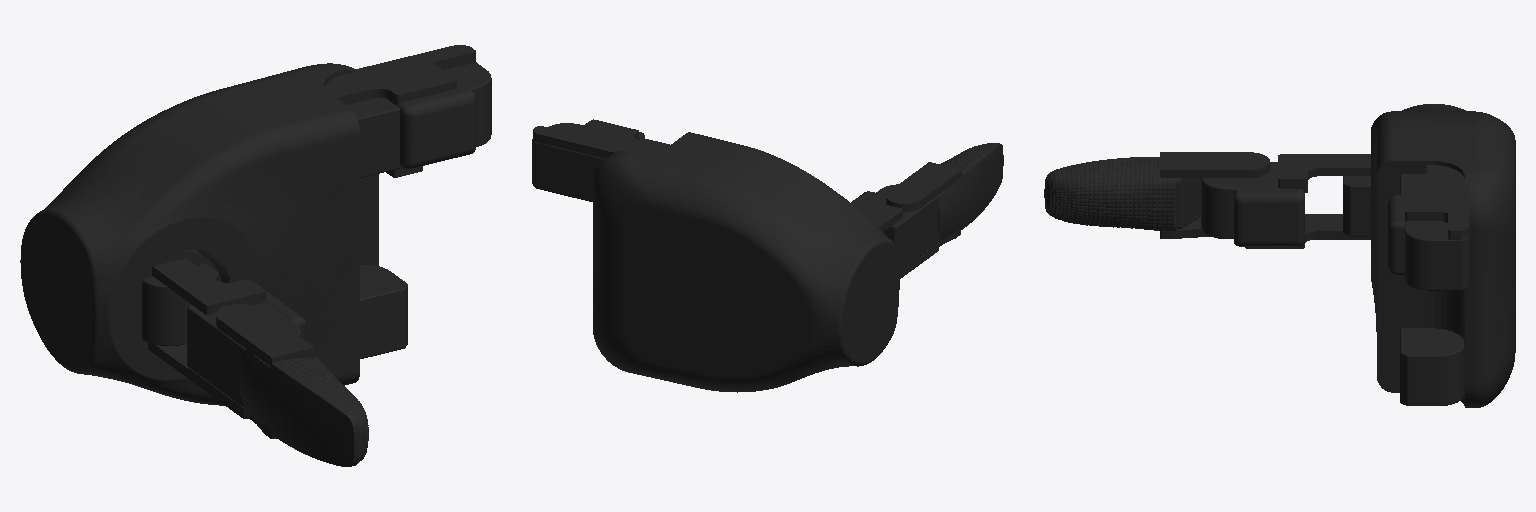
robot.urdf — dex3_1_l:
<robot name="dex3_1_l">
  <material name="dark">
    <color rgba="0.2 0.2 0.2 1"/>
  </material>

  <mujoco>
    <compiler meshdir="meshes" discardvisual="false"/>
  </mujoco>

  <!-- [CAUTION] uncomment when convert to mujoco -->
  <!-- <link name="world"></link>
  <joint name="floating_base_joint" type="floating">
    <parent link="world"/>
    <child link="left_hand_palm_link"/>
  </joint> -->

  <link name="left_hand_palm_link">
    <inertial>
      <origin xyz="0.06214634836 -0.00050869656 -0.00058171093" rpy="0 0 0"/>
      <mass value="0.37283854"/>
      <inertia ixx="0.00027535181027" ixy="-0.00001595519465" ixz="-0.00000242161890" iyy="0.00053951827219" iyz="-0.00000042279435" izz="0.00039623390907"/>
    </inertial>
    <visual>
      <origin xyz="0 0 0" rpy="0 0 0"/>
      <geometry>
        <mesh filename="meshes/left_hand_palm_link.STL"/>
      </geometry>
      <material name="dark"/>
    </visual>
    <collision>
      <origin xyz="0 0 0" rpy="0 0 0"/>
      <geometry>
        <mesh filename="meshes/left_hand_palm_link.STL"/>
      </geometry>
    </collision>
  </link>
  <joint name="left_hand_thumb_0_joint" type="revolute">
    <origin xyz="0.0255 0 0" rpy="0 0 0"/>
    <axis xyz="0 1 0"/>
    <parent link="left_hand_palm_link"/>
    <child link="left_hand_thumb_0_link"/>
    <limit effort="2.45" velocity="3.14" lower="-1.04719755" upper="1.04719755"/>
  </joint>
  <link name="left_hand_thumb_0_link">
    <inertial>
      <origin xyz="-0.00088424580 -0.00863407079 0.00094429336" rpy="0 0 0"/>
      <mass value="0.08623657"/>
      <inertia ixx="0.00001602919238" ixy="0.00000010683177" ixz="0.00000016728875" iyy="0.00001451795012" iyz="-0.00000051094752" izz="0.00001637877663"/>
    </inertial>
    <visual>
      <origin xyz="0 0 0" rpy="0 0 0"/>
      <geometry>
        <mesh filename="meshes/left_hand_thumb_0_link.STL"/>
      </geometry>
      <material name="dark"/>
    </visual>
    <collision>
      <origin xyz="0 0 0" rpy="0 0 0"/>
      <geometry>
        <mesh filename="meshes/left_hand_thumb_0_link.STL"/>
      </geometry>
    </collision>
  </link>
  <joint name="left_hand_thumb_1_joint" type="revolute">
    <origin xyz="-0.0025 -0.0193 0" rpy="0 0 0"/>
    <axis xyz="0 0 1"/>
    <parent link="left_hand_thumb_0_link"/>
    <child link="left_hand_thumb_1_link"/>
    <limit effort="1.4" velocity="12" lower="-0.61086523" upper="1.04719755"/>
  </joint>
  <link name="left_hand_thumb_1_link">
    <inertial>
      <origin xyz="-0.00082788768 -0.03547435774 -0.00038089960" rpy="0 0 0"/>
      <mass value="0.05885070"/>
      <inertia ixx="0.00001274699945" ixy="-0.00000050770784" ixz="0.00000016088850" iyy="0.00000601573947" iyz="-0.00000027839003" izz="0.00001234543582"/>
    </inertial>
    <visual>
      <origin xyz="0 0 0" rpy="0 0 0"/>
      <geometry>
        <mesh filename="meshes/left_hand_thumb_1_link.STL"/>
      </geometry>
      <material name="dark"/>
    </visual>
    <collision>
      <origin xyz="-0.001 -0.032 0" rpy="0 0 0"/>
      <geometry>
        <box size="0.02 0.03 0.02"/>
      </geometry>
    </collision>
  </link>
  <joint name="left_hand_thumb_2_joint" type="revolute">
    <origin xyz="0 -0.0458 0" rpy="0 0 0"/>
    <axis xyz="0 0 1"/>
    <parent link="left_hand_thumb_1_link"/>
    <child link="left_hand_thumb_2_link"/>
    <limit effort="1.4" velocity="12" lower="0" upper="1.74532925"/>
  </joint>
  <link name="left_hand_thumb_2_link">
    <inertial>
      <origin xyz="-0.00171735242 -0.02628192939 0.00010778879" rpy="0 0 0"/>
      <mass value="0.02030626"/>
      <inertia ixx="0.00000461267817" ixy="-0.00000003422130" ixz="-0.00000000823881" iyy="0.00000153561368" iyz="-0.00000002549885" izz="0.00000386625776"/>
    </inertial>
    <visual>
      <origin xyz="0 0 0" rpy="0 0 0"/>
      <geometry>
        <mesh filename="meshes/left_hand_thumb_2_link.STL"/>
      </geometry>
      <material name="dark"/>
    </visual>
    <collision>
      <origin xyz="0 0 0" rpy="0 0 0"/>
      <geometry>
        <mesh filename="meshes/left_hand_thumb_2_link.STL"/>
      </geometry>
    </collision>
  </link>
  <joint name="left_hand_middle_0_joint" type="revolute">
    <origin xyz="0.0777 0.0016 -0.0285" rpy="0 0 0"/>
    <axis xyz="0 0 1"/>
    <parent link="left_hand_palm_link"/>
    <child link="left_hand_middle_0_link"/>
    <limit effort="1.4" velocity="12" lower="-1.57079632" upper="0"/>
  </joint>
  <link name="left_hand_middle_0_link">
    <inertial>
      <origin xyz="0.03547435774 0.00082788768 0.00038089960" rpy="0 0 0"/>
      <mass value="0.05885070"/>
      <inertia ixx="0.00000601573947" ixy="-0.00000050770784" ixz="-0.00000027839003" iyy="0.00001274699945" iyz="0.00000016088850" izz="0.00001234543582"/>
    </inertial>
    <visual>
      <origin xyz="0 0 0" rpy="0 0 0"/>
      <geometry>
        <mesh filename="meshes/left_hand_middle_0_link.STL"/>
      </geometry>
      <material name="dark"/>
    </visual>
    <collision>
      <origin xyz="0 0 0" rpy="0 0 0"/>
      <geometry>
        <mesh filename="meshes/left_hand_middle_0_link.STL"/>
      </geometry>
    </collision>
  </link>
  <joint name="left_hand_middle_1_joint" type="revolute">
    <origin xyz="0.0458 0 0" rpy="0 0 0"/>
    <axis xyz="0 0 1"/>
    <parent link="left_hand_middle_0_link"/>
    <child link="left_hand_middle_1_link"/>
    <limit effort="1.4" velocity="12" lower="-1.74532925" upper="0"/>
  </joint>
  <link name="left_hand_middle_1_link">
    <inertial>
      <origin xyz="0.02628192939 0.00171735242 -0.00010778879" rpy="0 0 0"/>
      <mass value="0.02030626"/>
      <inertia ixx="0.00000153561368" ixy="-0.00000003422130" ixz="-0.00000002549885" iyy="0.00000461267817" iyz="-0.00000000823881" izz="0.00000386625776"/>
    </inertial>
    <visual>
      <origin xyz="0 0 0" rpy="0 0 0"/>
      <geometry>
        <mesh filename="meshes/left_hand_middle_1_link.STL"/>
      </geometry>
      <material name="dark"/>
    </visual>
    <collision>
      <origin xyz="0 0 0" rpy="0 0 0"/>
      <geometry>
        <mesh filename="meshes/left_hand_middle_1_link.STL"/>
      </geometry>
    </collision>
  </link>
  <joint name="left_hand_index_0_joint" type="revolute">
    <origin xyz="0.0777 0.0016 0.0285" rpy="0 0 0"/>
    <axis xyz="0 0 1"/>
    <parent link="left_hand_palm_link"/>
    <child link="left_hand_index_0_link"/>
    <limit effort="1.4" velocity="12" lower="-1.57079632" upper="0"/>
  </joint>
  <link name="left_hand_index_0_link">
    <inertial>
      <origin xyz="0.03547435774 0.00082788768 0.00038089960" rpy="0 0 0"/>
      <mass value="0.05885070"/>
      <inertia ixx="0.00000601573947" ixy="-0.00000050770784" ixz="-0.00000027839003" iyy="0.00001274699945" iyz="0.00000016088850" izz="0.00001234543582"/>
    </inertial>
    <visual>
      <origin xyz="0 0 0" rpy="0 0 0"/>
      <geometry>
        <mesh filename="meshes/left_hand_index_0_link.STL"/>
      </geometry>
      <material name="dark"/>
    </visual>
    <collision>
      <origin xyz="0 0 0" rpy="0 0 0"/>
      <geometry>
        <mesh filename="meshes/left_hand_index_0_link.STL"/>
      </geometry>
    </collision>
  </link>
  <joint name="left_hand_index_1_joint" type="revolute">
    <origin xyz="0.0458 0 0" rpy="0 0 0"/>
    <axis xyz="0 0 1"/>
    <parent link="left_hand_index_0_link"/>
    <child link="left_hand_index_1_link"/>
    <limit effort="1.4" velocity="12" lower="-1.74532925" upper="0"/>
  </joint>
  <link name="left_hand_index_1_link">
    <inertial>
      <origin xyz="0.02628192939 0.00171735242 -0.00010778879" rpy="0 0 0"/>
      <mass value="0.02030626"/>
      <inertia ixx="0.00000153561368" ixy="-0.00000003422130" ixz="-0.00000002549885" iyy="0.00000461267817" iyz="-0.00000000823881" izz="0.00000386625776"/>
    </inertial>
    <visual>
      <origin xyz="0 0 0" rpy="0 0 0"/>
      <geometry>
        <mesh filename="meshes/left_hand_index_1_link.STL"/>
      </geometry>
      <material name="dark"/>
    </visual>
    <collision>
      <origin xyz="0 0 0" rpy="0 0 0"/>
      <geometry>
        <mesh filename="meshes/left_hand_index_1_link.STL"/>
      </geometry>
    </collision>
  </link>
</robot>

--- Render facts (derived) ---
3 views of the same robot in one strip: view 1: azimuth 30°, elevation 25°; view 2: azimuth 150°, elevation 25°; view 3: azimuth 270°, elevation 25° (orthographic).
Model dex3_1_l with 8 links and 7 joints (7 revolute), rooted at left_hand_palm_link, posed every joint at zero.
Visible links, largest first — view 1: left_hand_palm_link, left_hand_thumb_2_link, left_hand_index_0_link, left_hand_thumb_1_link, left_hand_thumb_0_link; view 2: left_hand_palm_link, left_hand_thumb_2_link, left_hand_index_0_link, left_hand_thumb_1_link; view 3: left_hand_palm_link, left_hand_thumb_2_link, left_hand_thumb_1_link, left_hand_index_0_link, left_hand_thumb_0_link.
Boxes of the visible links, x1,y1,x2,y2 form: left_hand_palm_link: (20,63,407,405); left_hand_thumb_2_link: (216,304,368,466); left_hand_index_0_link: (325,45,491,177); left_hand_thumb_1_link: (148,258,306,419); left_hand_thumb_0_link: (131,250,220,345); left_hand_palm_link: (593,132,899,392); left_hand_thumb_2_link: (886,143,1003,246); left_hand_index_0_link: (532,119,665,201); left_hand_thumb_1_link: (851,184,939,278); left_hand_palm_link: (1371,104,1515,407); left_hand_thumb_2_link: (1044,152,1269,238); left_hand_thumb_1_link: (1201,154,1370,248); left_hand_index_0_link: (1388,165,1468,290); left_hand_thumb_0_link: (1343,176,1370,236).
Bounding box of the posed robot: 0.1395 × 0.158 × 0.086 m (x, y, z).
Meshes: 8 distinct files referenced, 5 mesh visuals loaded (5 binary STL); not drawn: 3 (reference not matched to a file when rendering).